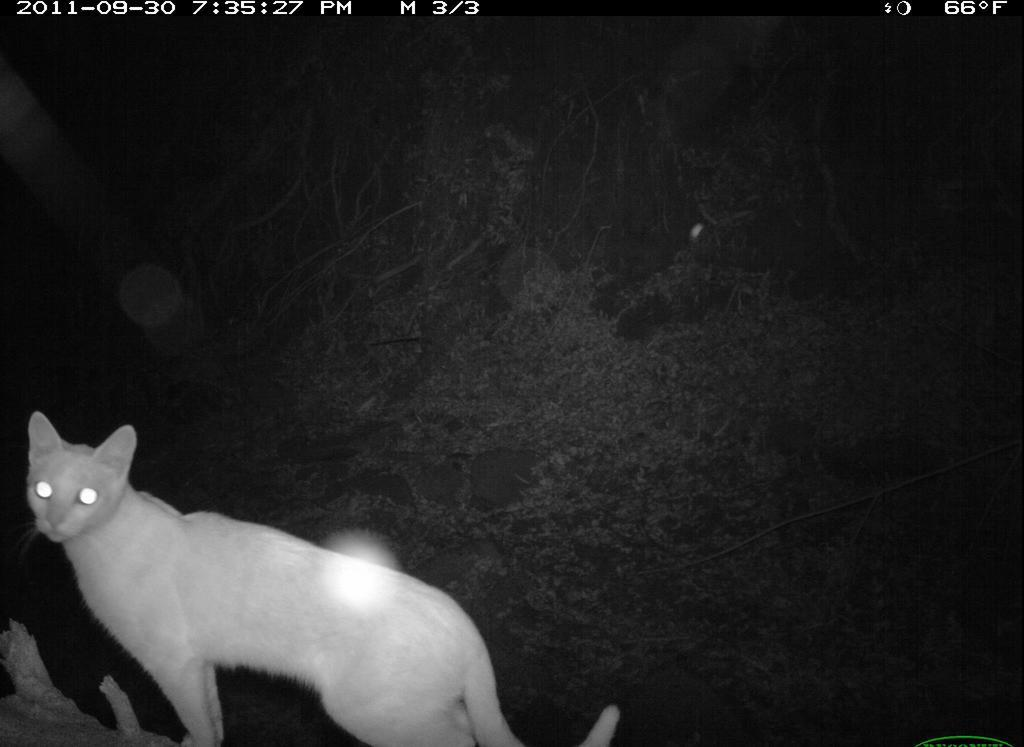cat: (16, 400, 635, 747)
